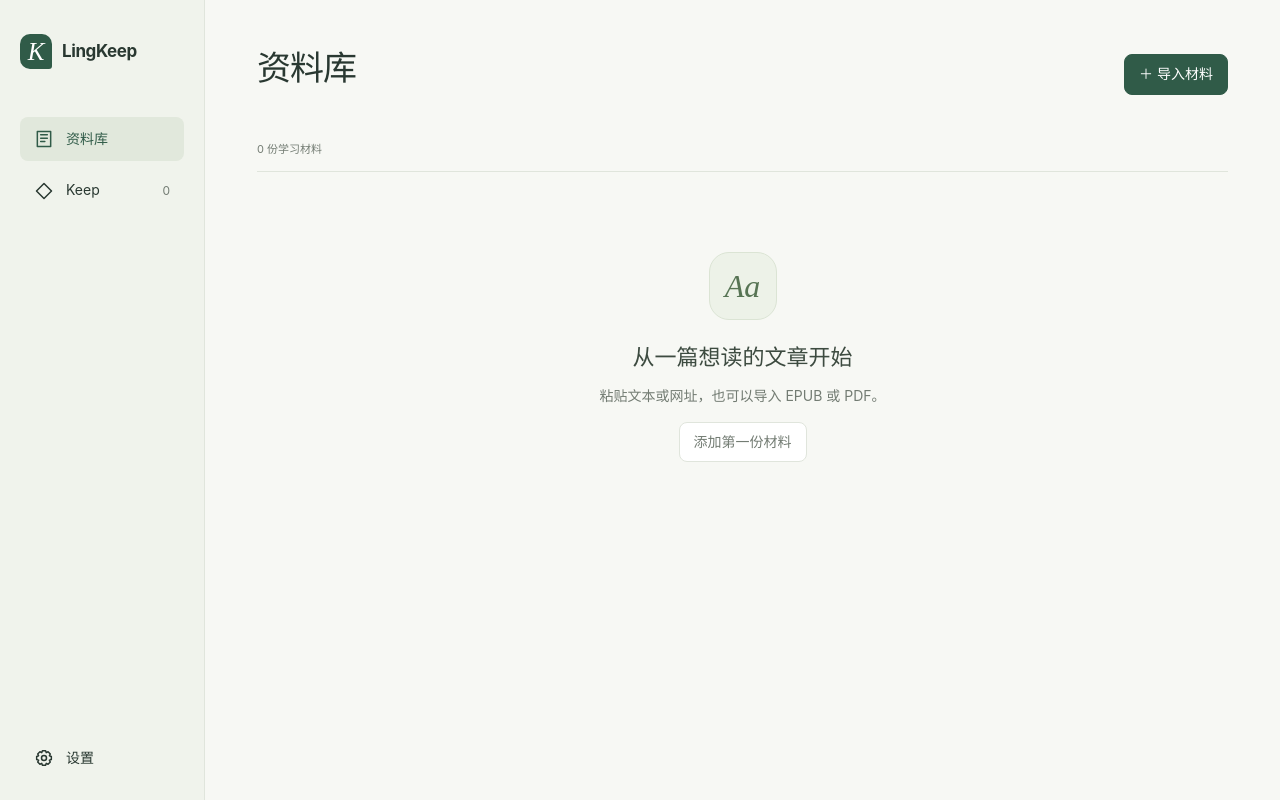
Test: Keep remains a proper name in Chinese and English interface labels
The width and height of the screenshot is (1280, 800).
Click the button "Keep 0". click: {"x": 102, "y": 191}
box: [20, 168, 184, 213]
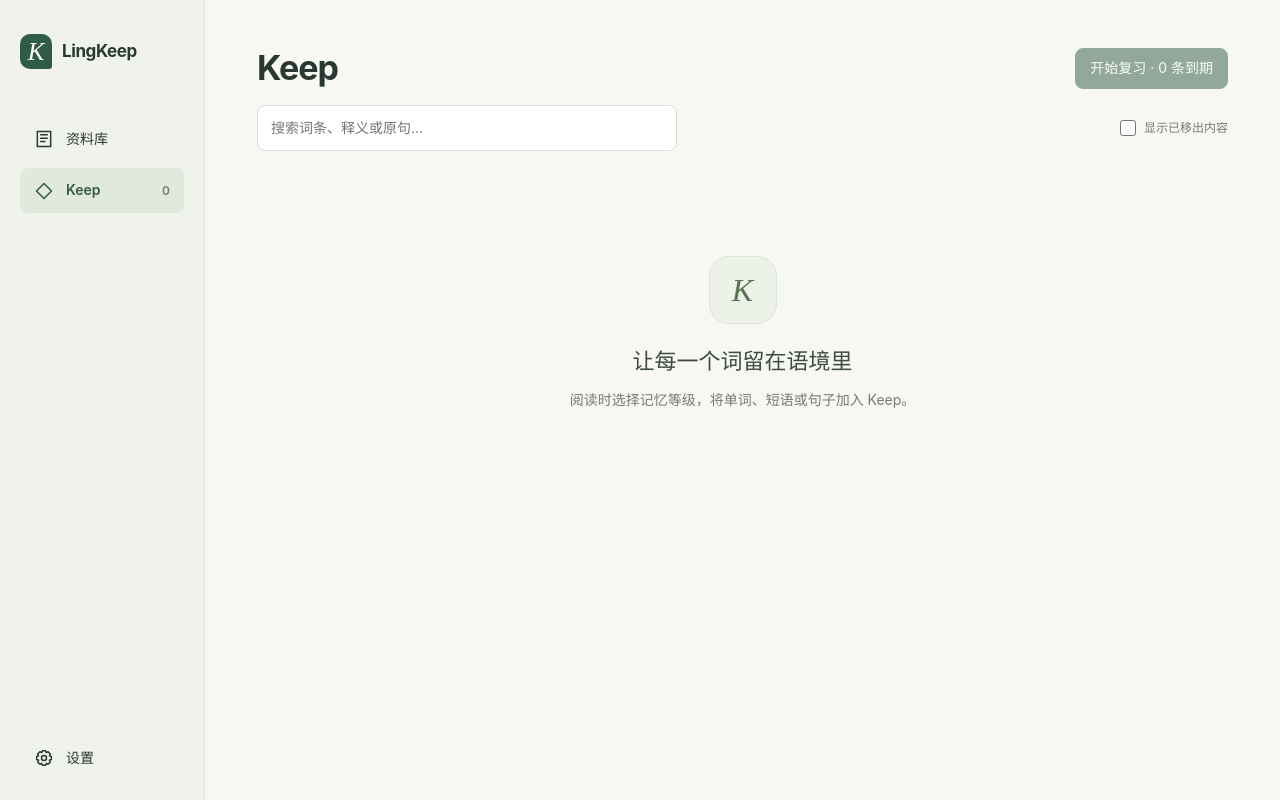
Result: the heading "Keep" is shown at [257, 48, 338, 89]
Result: the field named "搜索 Keep" is shown at [257, 105, 677, 151]
